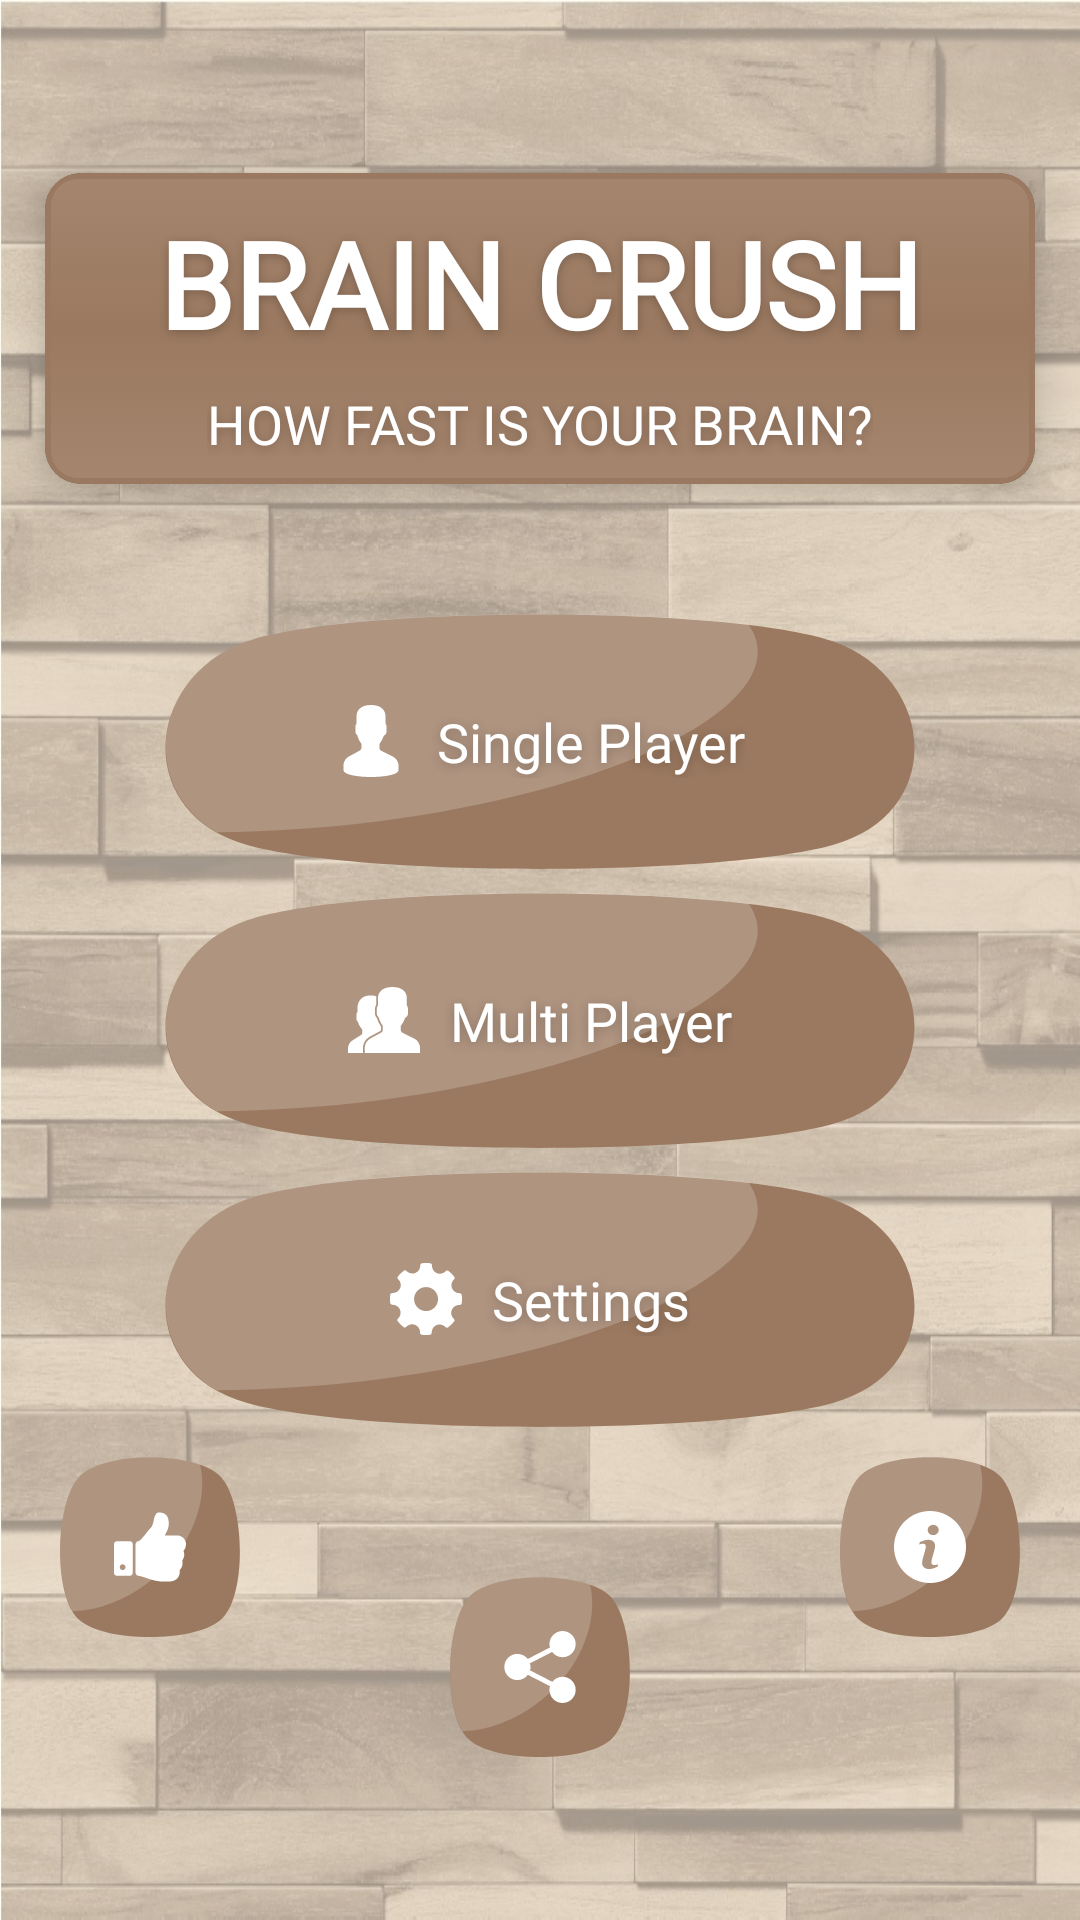

Where to tap for icons on this 1080 x 1920 app screen, as (x,y):
info button: (930,1547)
like button: (150,1547)
share button: (540,1667)
